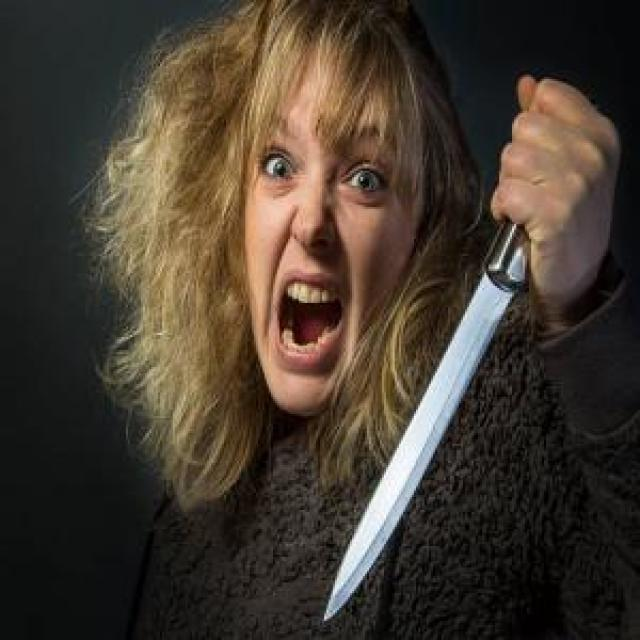knife: (322, 213, 537, 628)
